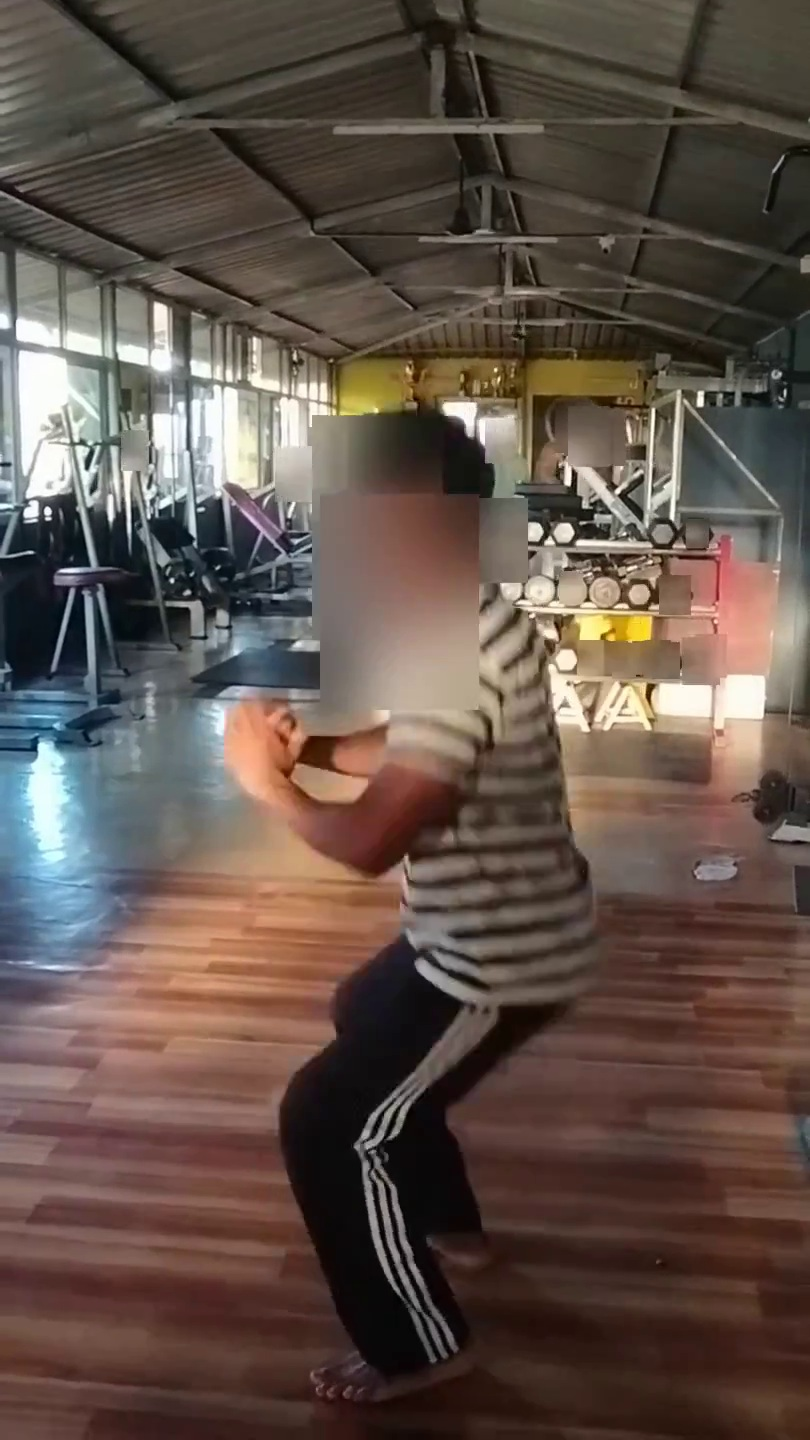squat: (200, 661, 554, 1397)
